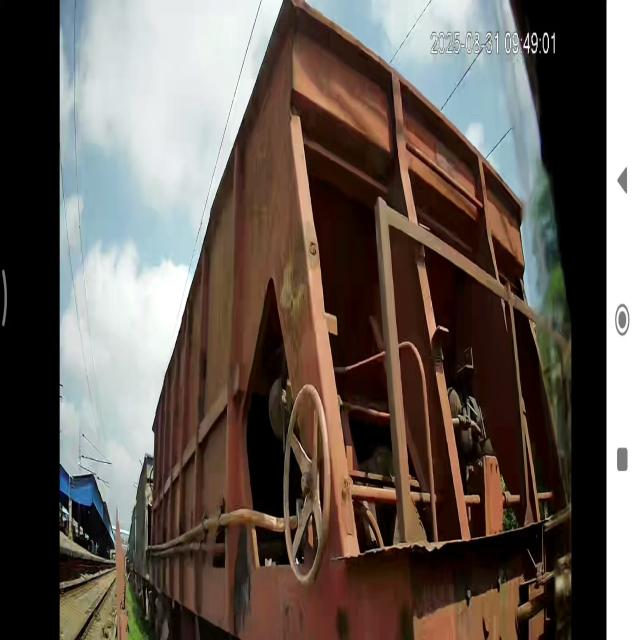coach: (155, 4, 303, 640)
